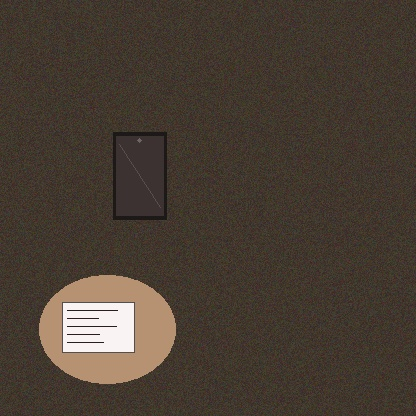cell_phone: (113, 132, 166, 219)
exam_chit: (62, 302, 134, 352)
